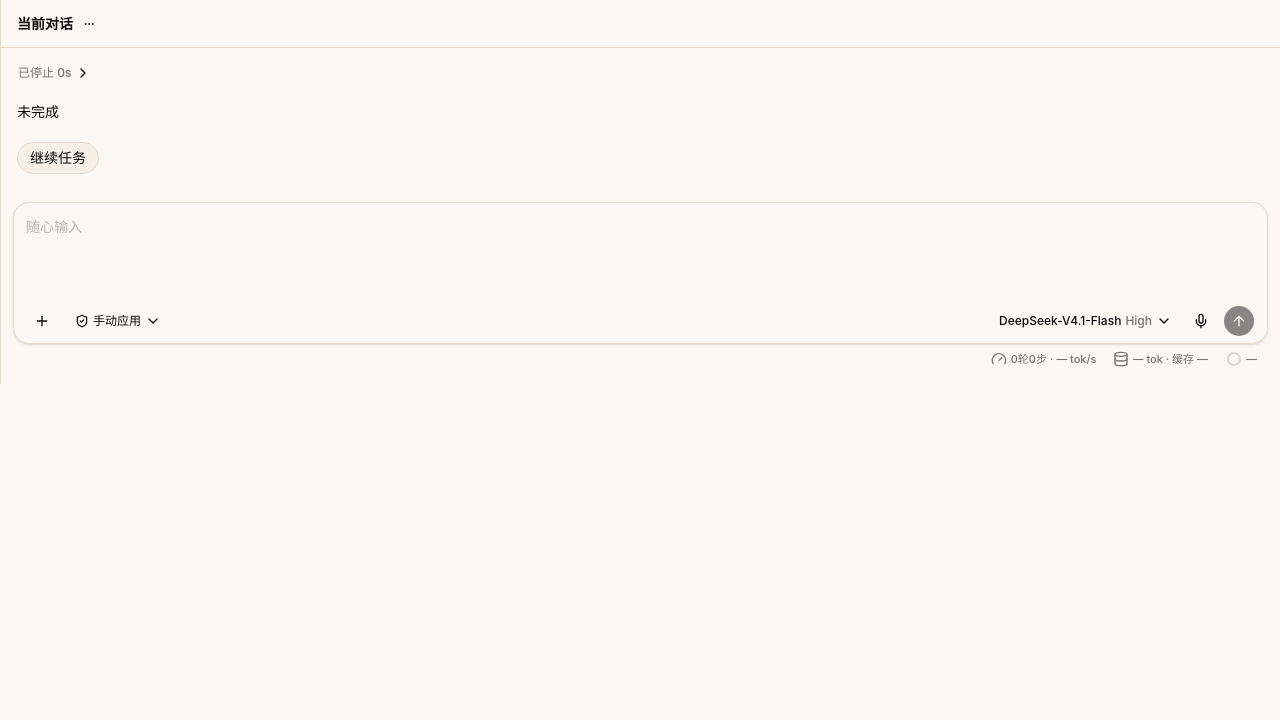
Test: AgentChatPanel › resumes the latest recoverable run without sending or clearing the current draft
Press Enter in the button "手动应用", box [66,305,170,337]
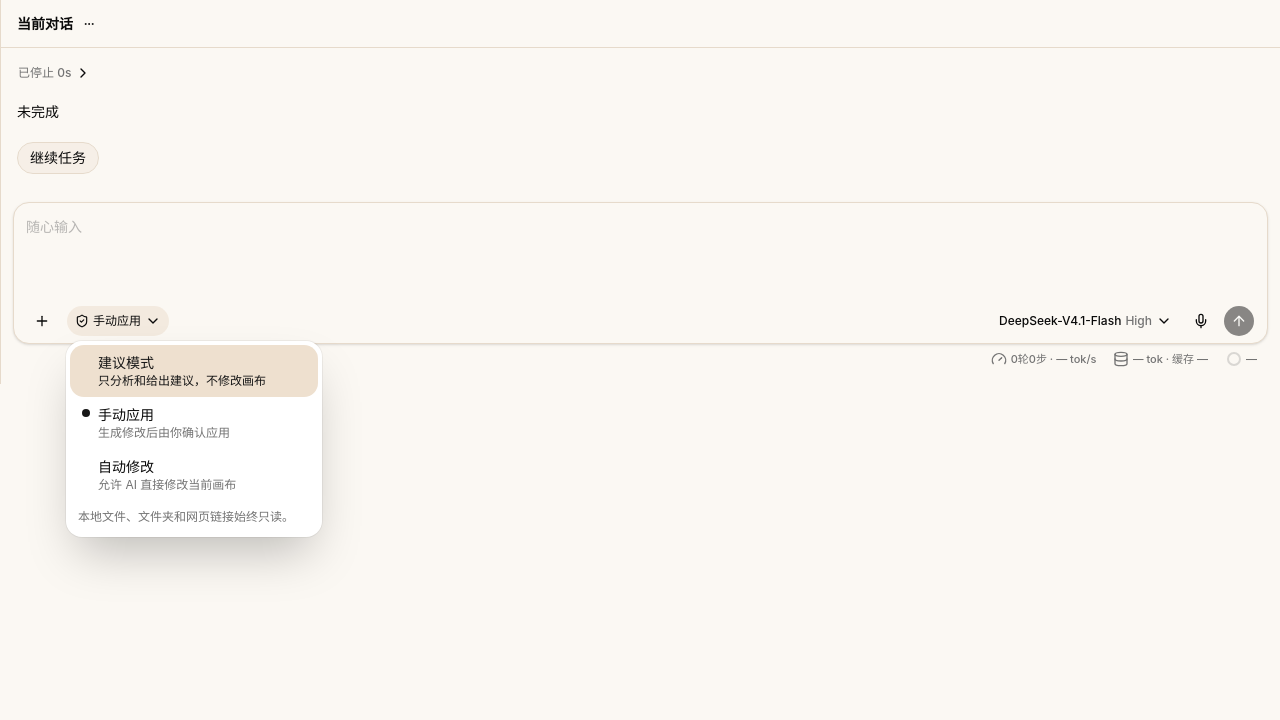
Click the menu item "自动修改 允许 AI 直接修改当前画布" at (167,475), box [98,458,236,492]
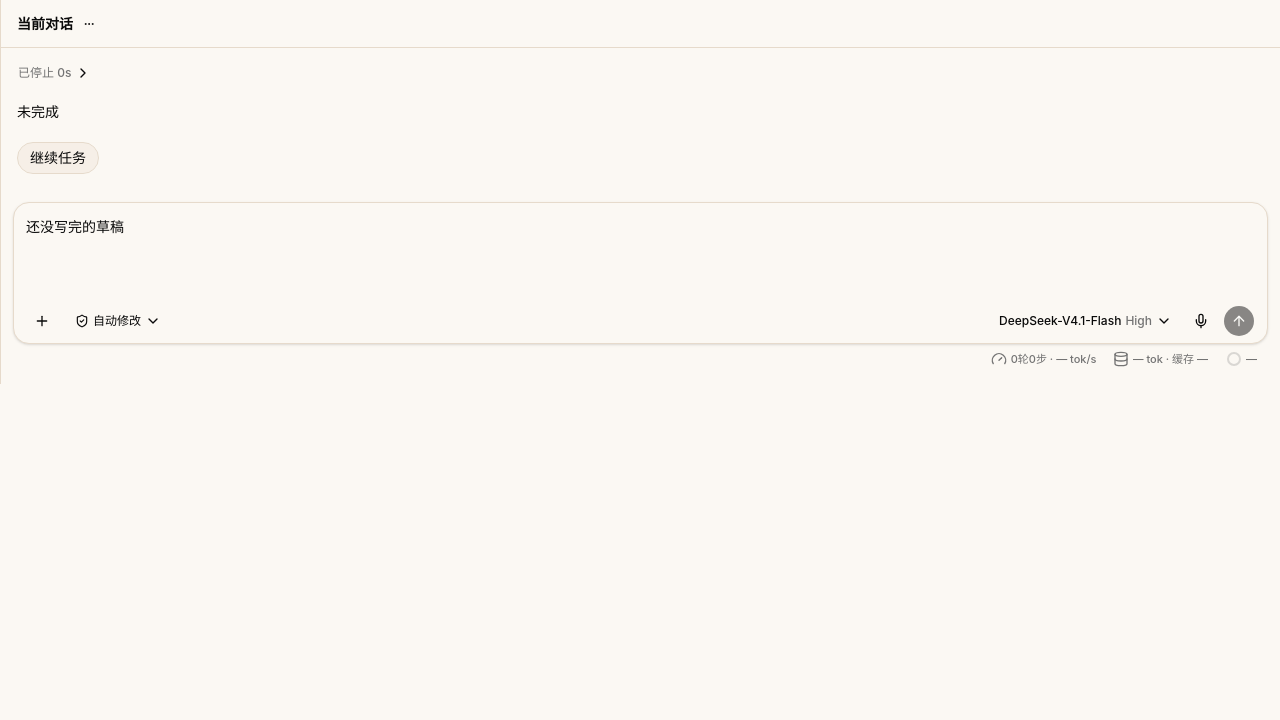
Expected: the button "自动修改" is shown, [66,305,170,337]
Clear the field named "AI 输入" at (75,226), box [26,218,124,235]
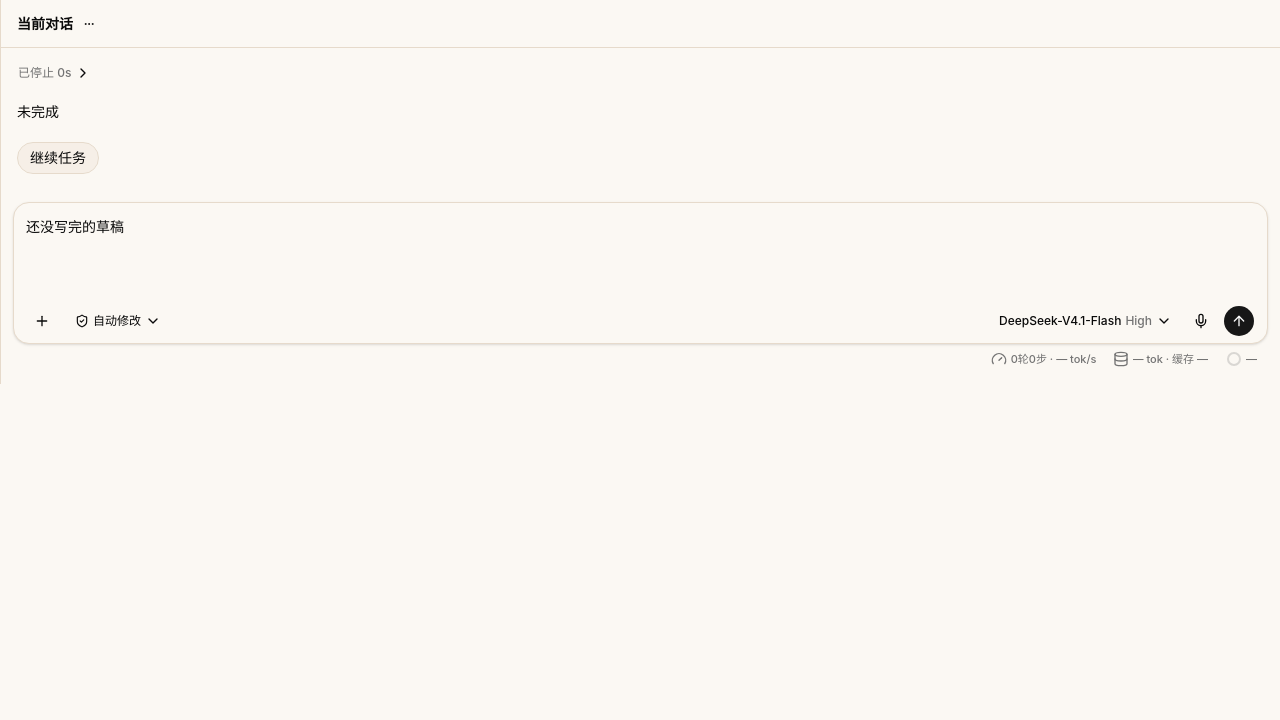
Click the button "继续任务" at (58,158), box [17,142,99,174]
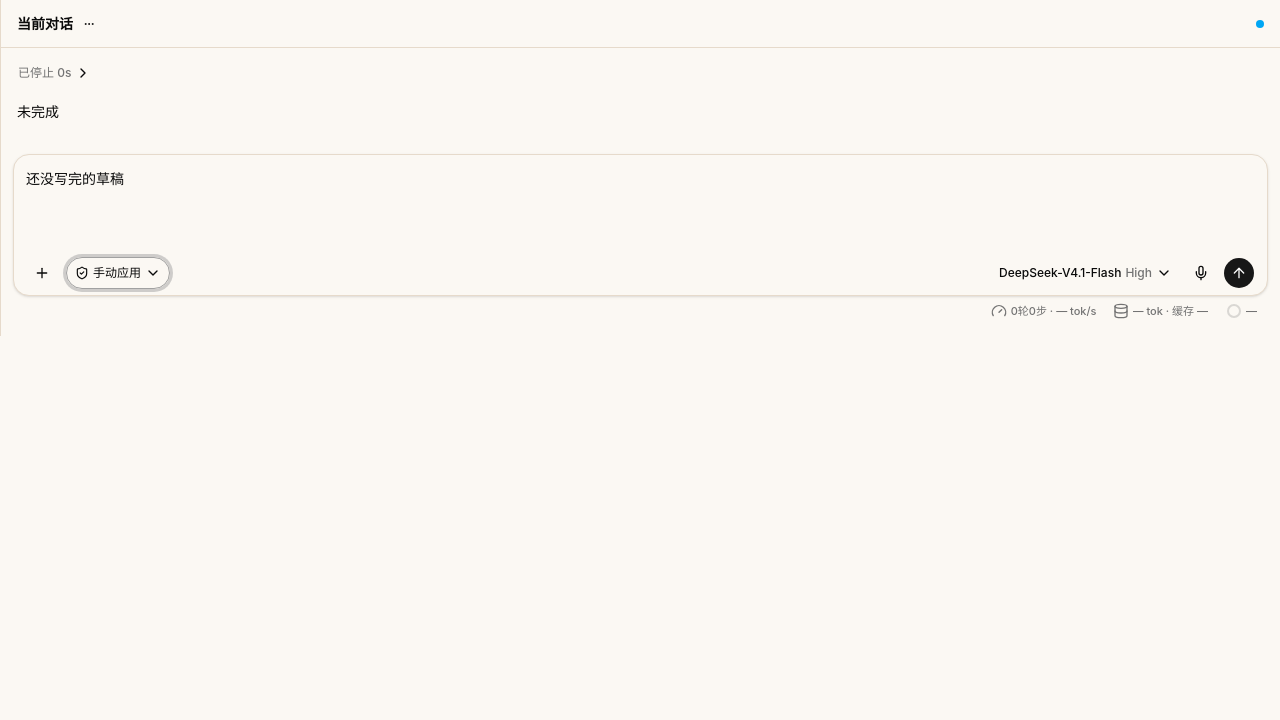
Expected: the button "手动应用" is shown, [66,257,170,289]
